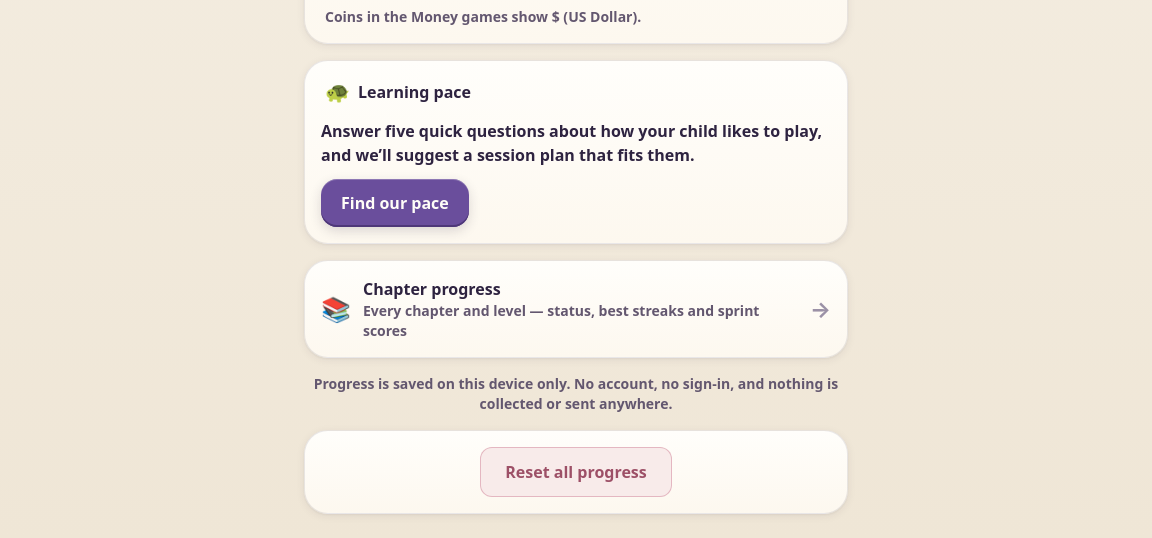
Test: ParentView › resets progress only after the addition gate is passed correctly
(page scrolled)
Click the button "Reset all progress". click: (576, 472)
box: [480,446,672,496]
(page scrolled)
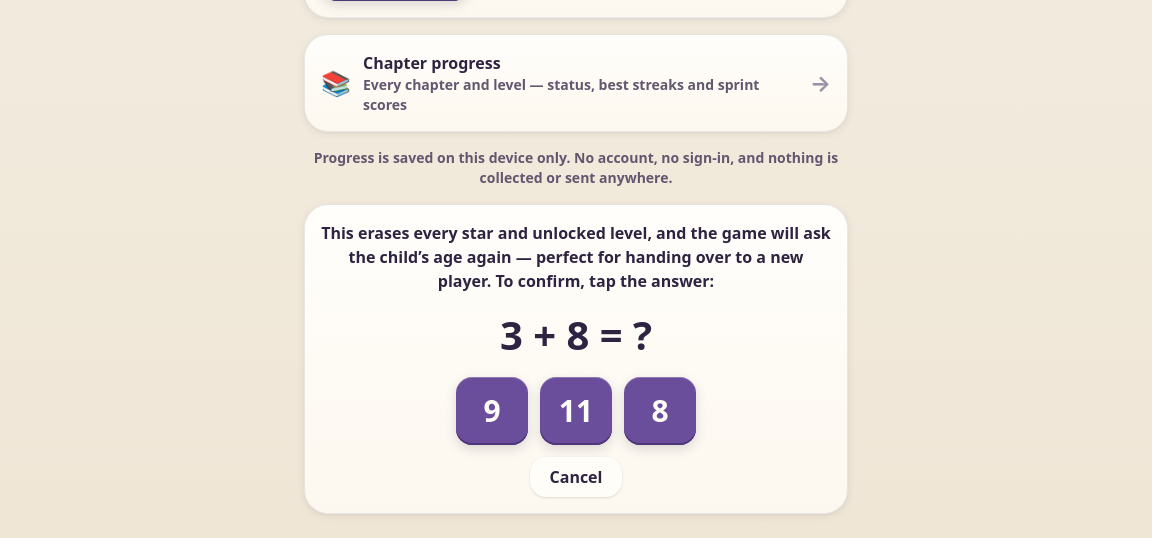
Click the button "9". click: (492, 410)
box: [456,376,528,444]
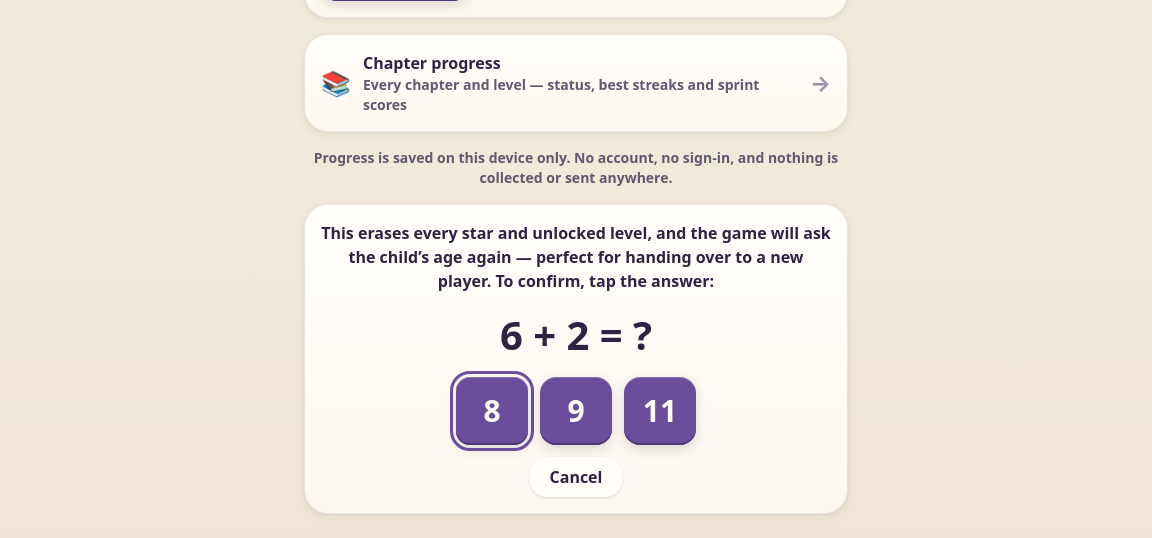
Click the button "8". click: (492, 410)
box: [456,376,528,444]
(page scrolled)
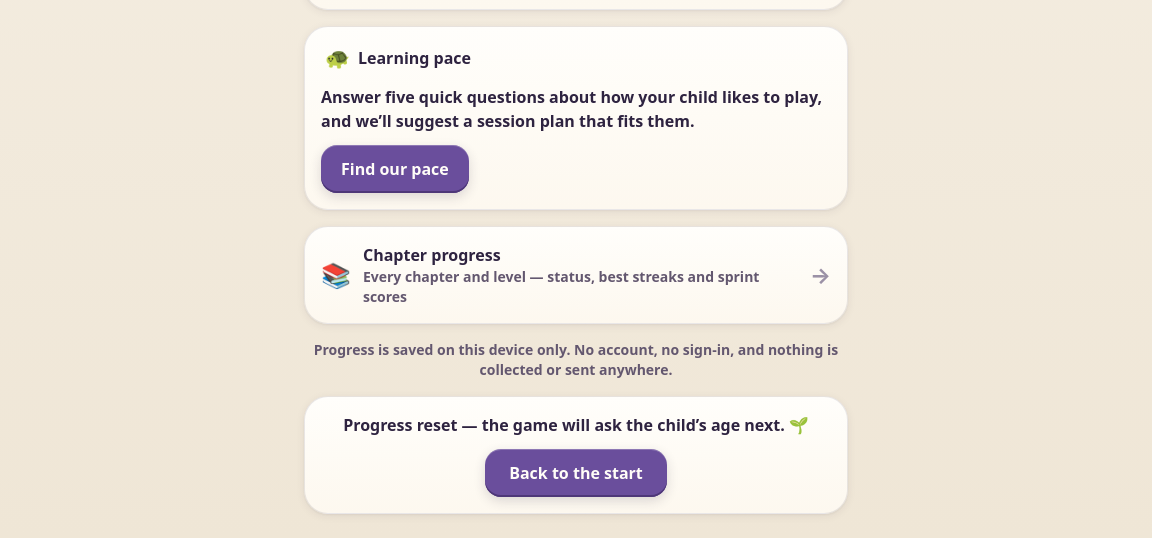
Expected: the text "Progress reset" is shown, [343,414,809,436]
